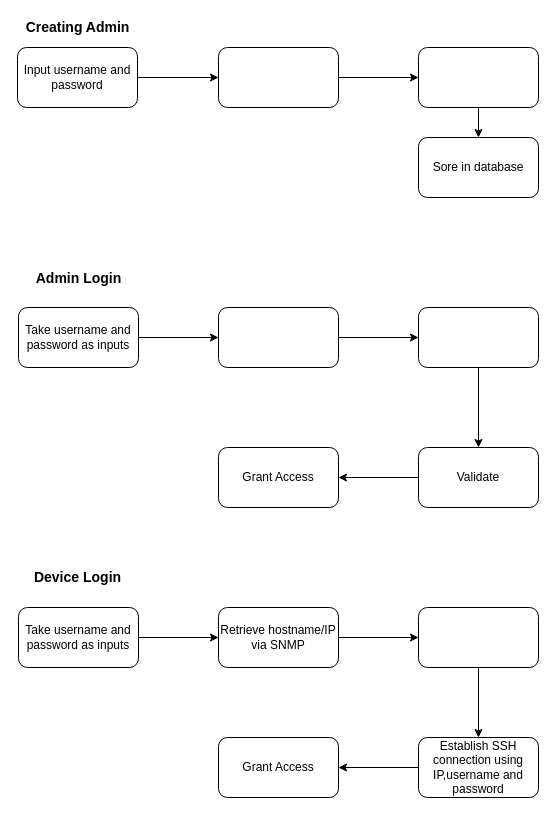
Some shapes in this 556 by 815 pixel diagram are drawn without their labels. The box of each missing label's shape, as (x1, y1, x2, y2) in pixels:
Decrypt password using PyCrypto: (218, 306, 338, 368)
Encrypt the password using PyCrypto: (418, 46, 538, 108)
Make a entry in users table using the username and password: (218, 46, 338, 108)
Retrieve username and password from database: (418, 306, 538, 368)
Validate user inputs: (418, 606, 538, 668)
